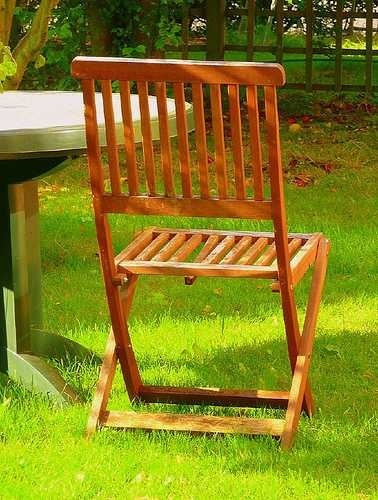obstacle: (72, 57, 329, 447)
